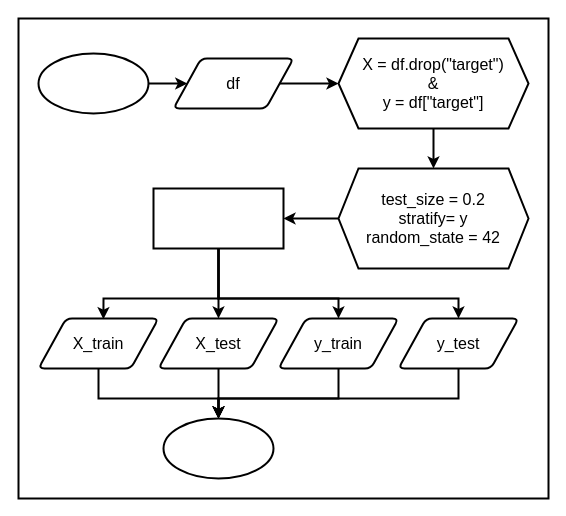
Some shapes in this 566 by 516 pixel diagram are drawn without their labels. Here are the shapes that lost their labels. From the top down, the centre of each, then its label:
At point (93, 83): "mulai".
At point (218, 218): "train_test_split".
At point (218, 448): "selesai".
